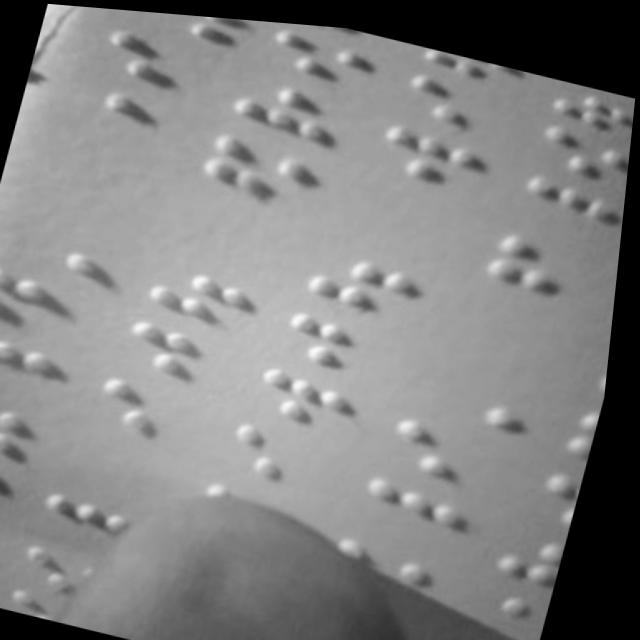braiile: (83, 22, 232, 115), (38, 77, 191, 167), (364, 111, 502, 202), (478, 221, 617, 311), (218, 66, 355, 157), (114, 312, 254, 398), (90, 372, 230, 458), (188, 124, 332, 207), (358, 464, 488, 553), (246, 356, 375, 445), (279, 301, 418, 383), (381, 405, 516, 489), (506, 163, 629, 252), (143, 256, 278, 335), (304, 245, 431, 321), (250, 16, 380, 90), (526, 110, 634, 194), (391, 59, 513, 132), (0, 258, 97, 342), (114, 8, 243, 63), (0, 329, 73, 409), (0, 391, 40, 459), (0, 498, 22, 566), (0, 455, 25, 512)
